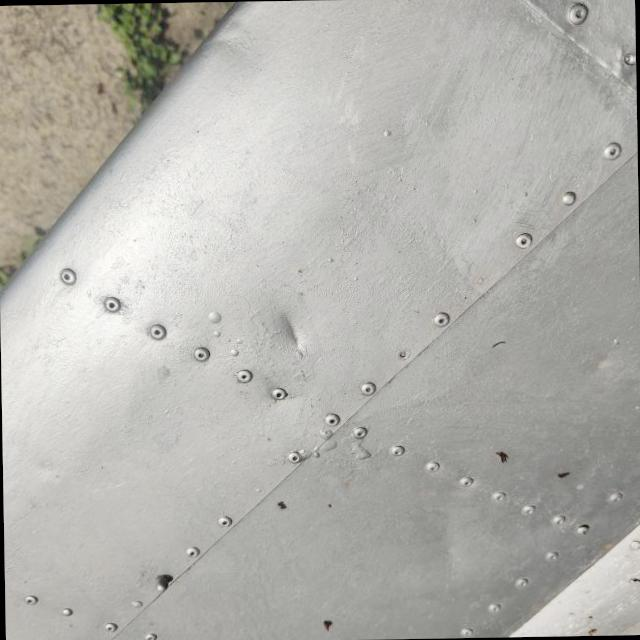dent: (236, 278, 336, 380)
